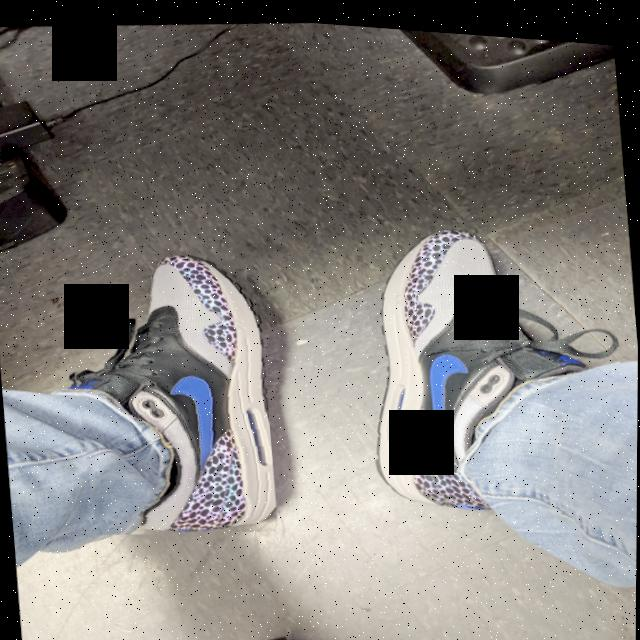shoe: (351, 201, 634, 525), (57, 236, 280, 544)
